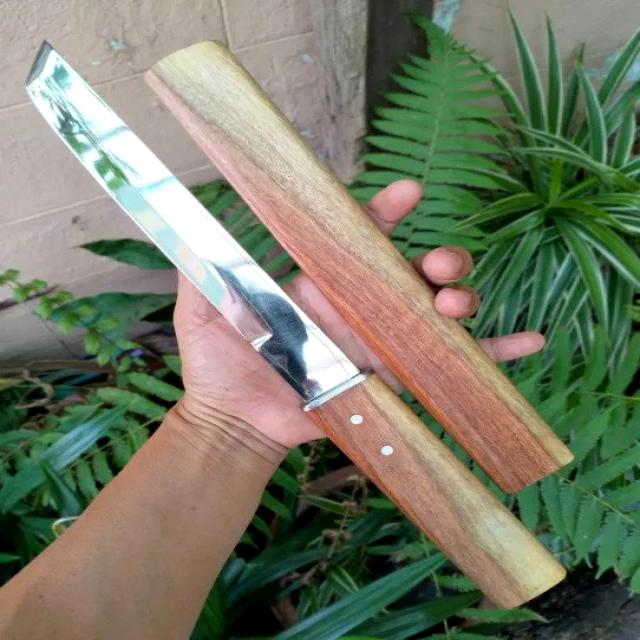short sword: (16, 33, 640, 618)
